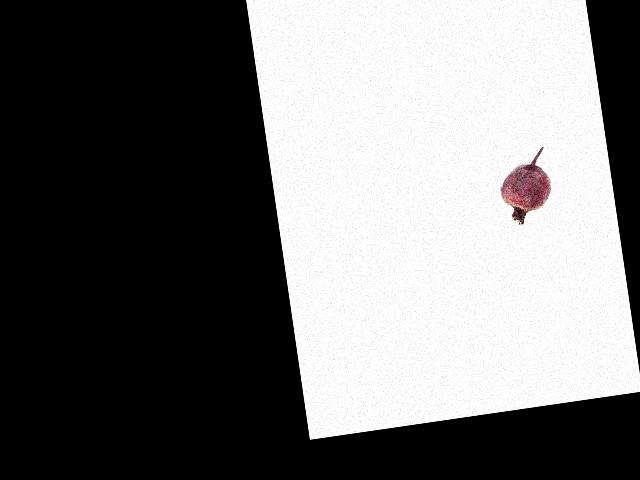beet: (495, 146, 556, 227)
